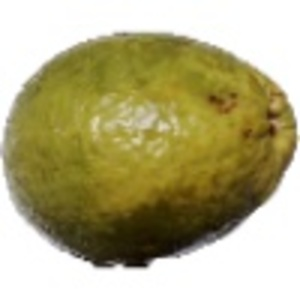goiaba: (8, 28, 294, 269)
